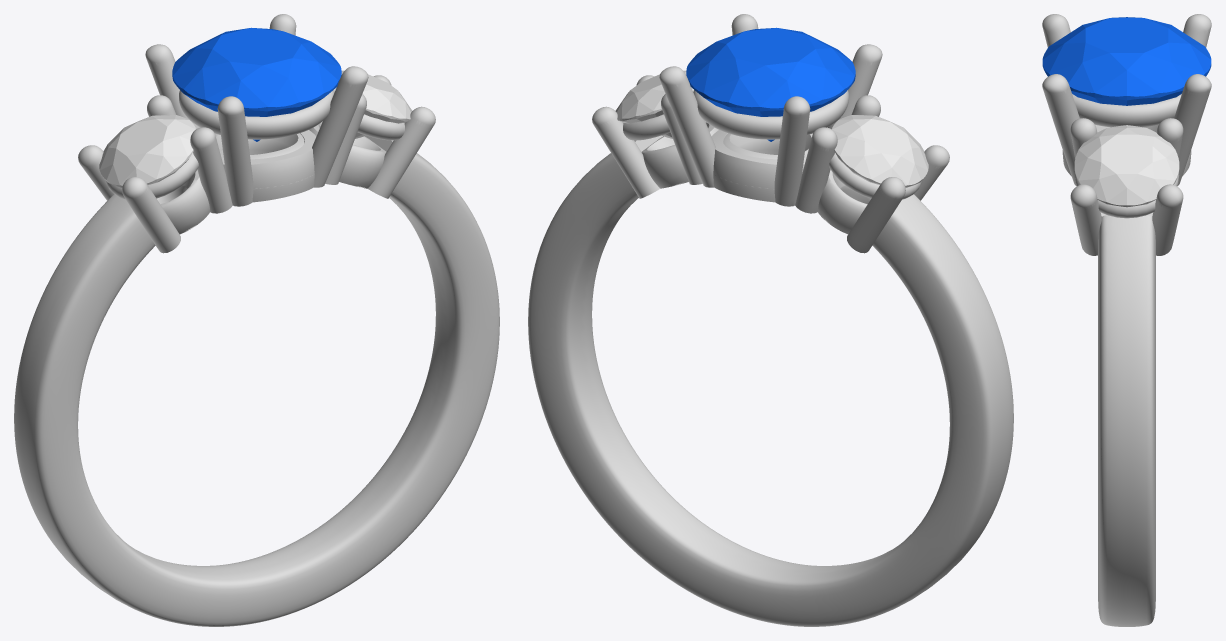
File: bluesapphire-round-platinum-4prong-straightband-2stone.glb
The picture shows the model from 3 angles, left to right: view 1: azimuth 30°, elevation 25°; view 2: azimuth 150°, elevation 25°; view 3: azimuth 270°, elevation 25°; orthographic projection.
Visible parts, largest first — view 1: metal, stone, side.001, side; view 2: metal, stone, side.001, side; view 3: metal, stone, side.
Part boxes in pixels (box(x1,y1,x2,y2)): metal: box(14, 14, 499, 626); stone: box(172, 27, 341, 141); side.001: box(99, 115, 195, 187); side: box(334, 70, 412, 138); metal: box(528, 14, 1013, 626); stone: box(686, 27, 855, 141); side.001: box(832, 115, 928, 187); side: box(615, 70, 693, 138); metal: box(1042, 14, 1211, 626); stone: box(1042, 17, 1211, 105); side: box(1074, 125, 1179, 207).
Bounding box in the file's own units: 20.51 × 23.81 × 6.45.
